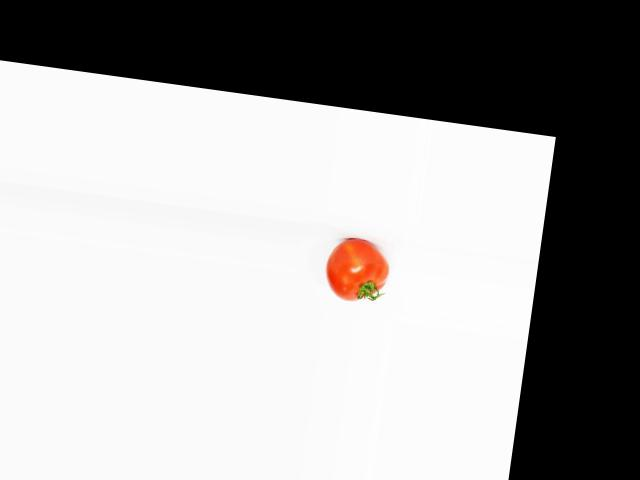tomato: (322, 234, 392, 306)
